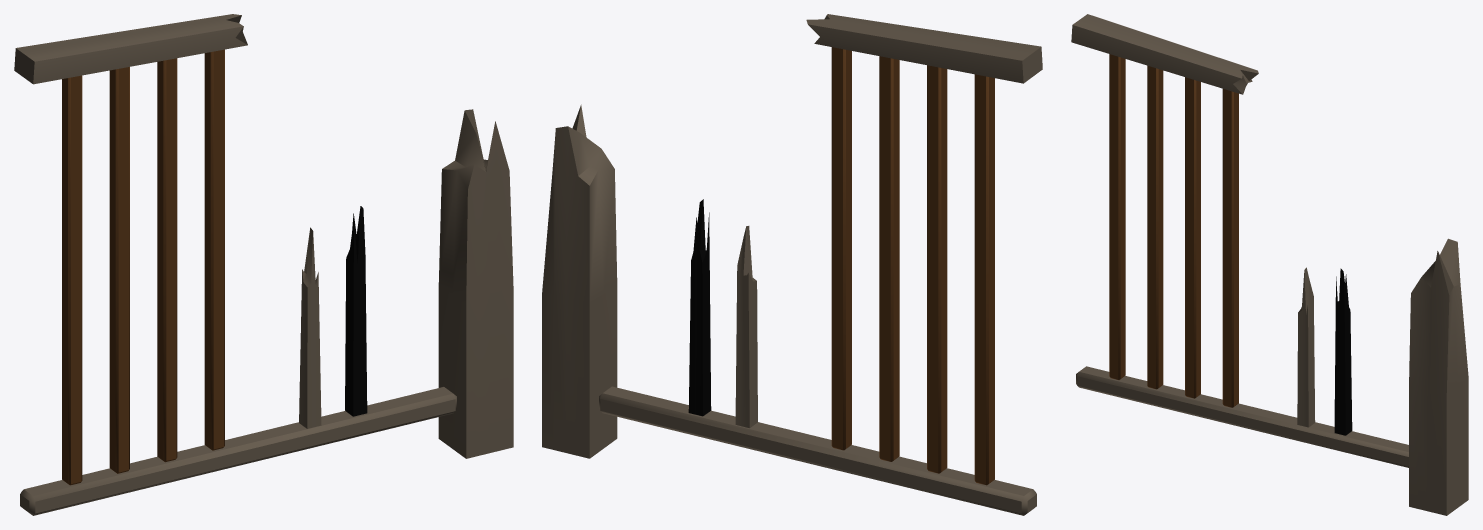
File: gelaender_1m_pfosten_kaputt.glb
3 renders of one model, left to right at view 1: azimuth 30°, elevation 25°; view 2: azimuth 150°, elevation 25°; view 3: azimuth 330°, elevation 25°, orthographic. The views are drawn at different scales.
Parts seen in each view (by area): view 1: gelaender_1m_pfosten_kaputt; view 2: gelaender_1m_pfosten_kaputt; view 3: gelaender_1m_pfosten_kaputt.
Boxes of the visible parts, x1=… form: gelaender_1m_pfosten_kaputt: x1=14, y1=14, x2=513, y2=515; gelaender_1m_pfosten_kaputt: x1=542, y1=14, x2=1042, y2=515; gelaender_1m_pfosten_kaputt: x1=1071, y1=14, x2=1468, y2=515.
Size of the model in its own units: 1 by 1 by 0.1.
